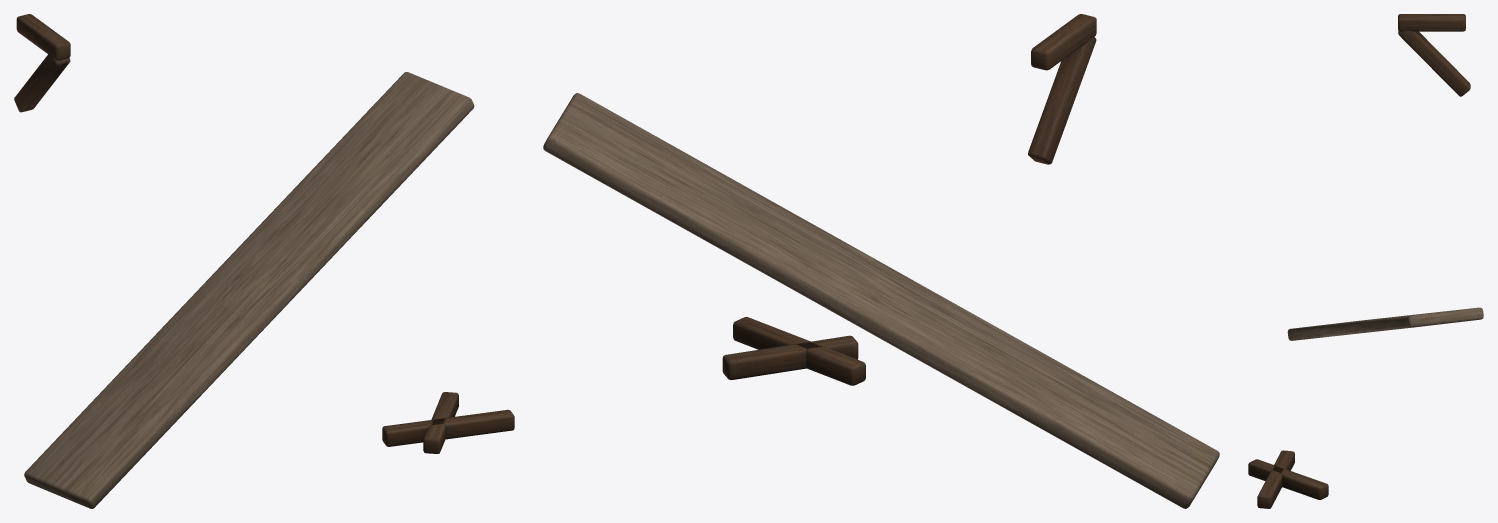
Rendered from home_shelf_broken.glb.
3 views of the same model, side by side, from view 1: azimuth 30°, elevation 25°; view 2: azimuth 150°, elevation 25°; view 3: azimuth 270°, elevation 25° (orthographic). The views are drawn at different scales.
Parts seen in each view (by area): view 1: home_shelf_broken; view 2: home_shelf_broken; view 3: home_shelf_broken.
Part boxes in pixels (box(x1,y1,x2,y2)): home_shelf_broken: box(14, 14, 514, 508); home_shelf_broken: box(543, 14, 1219, 508); home_shelf_broken: box(1248, 14, 1483, 508).
Bounding box in the file's own units: 1.89 × 1.56 × 0.9679.
1 material, 1 textured.
